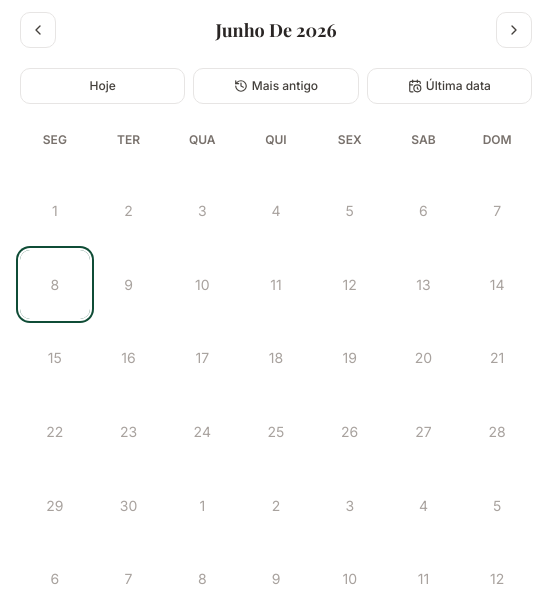
Test case: ActivitiesMonthCalendar › moves to the previous and next month without navigating to an activity
This screenshot has width=549, height=602.
Click the button "Mais antigo": (276, 86) [193,68,359,104]
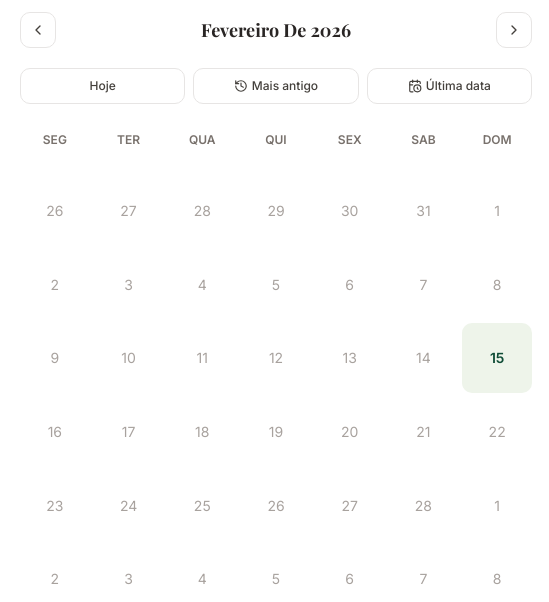
Result: the text "fevereiro de 2026" is shown at [201,16,351,44]
Click the button named "Mês anterior": (38, 30) [20,12,56,48]
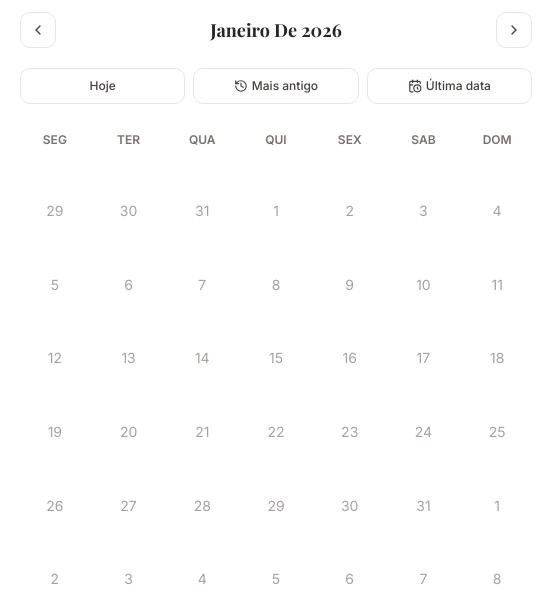
Result: the text "janeiro de 2026" is shown at [210,16,342,44]
Click the button named "Mês seguinte": (514, 30) [496,12,532,48]
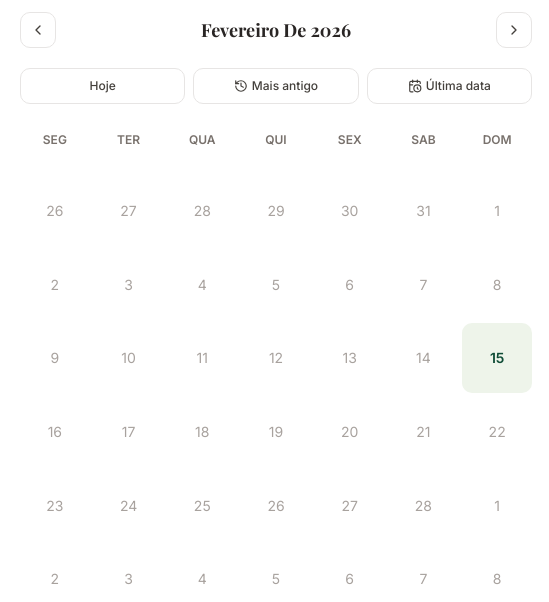
Result: the text "fevereiro de 2026" is shown at [201,16,351,44]
